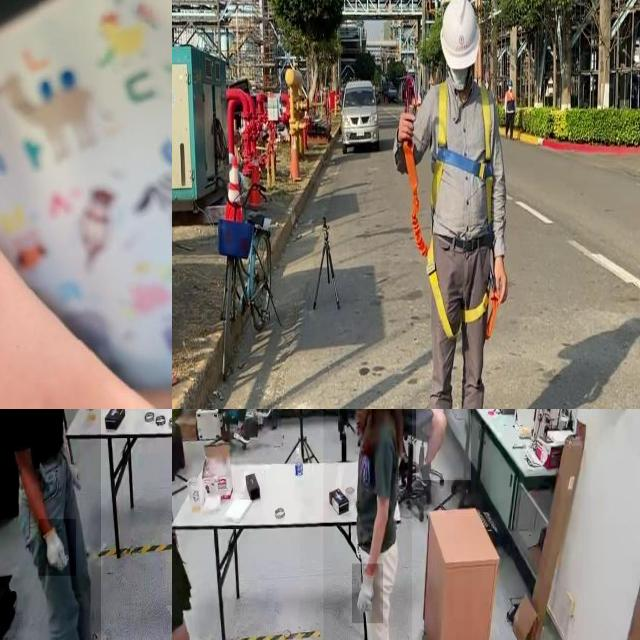Barefoots: (0, 0, 172, 409)
Harness: (403, 143, 500, 340), (433, 82, 495, 228)
hand_glove: (38, 519, 76, 577), (352, 564, 384, 624)
person: (0, 409, 101, 640), (323, 409, 412, 640), (416, 409, 471, 480)
shoes: (74, 619, 109, 640), (232, 423, 251, 448), (252, 409, 272, 420)
